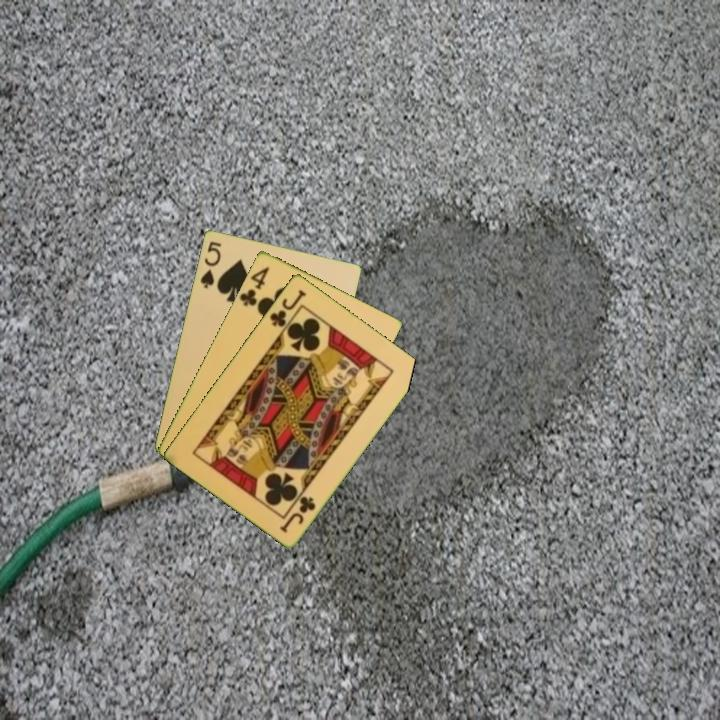4c: (236, 263, 272, 310)
5s: (196, 237, 224, 291)
Jc: (266, 285, 309, 330), (276, 492, 319, 535)
